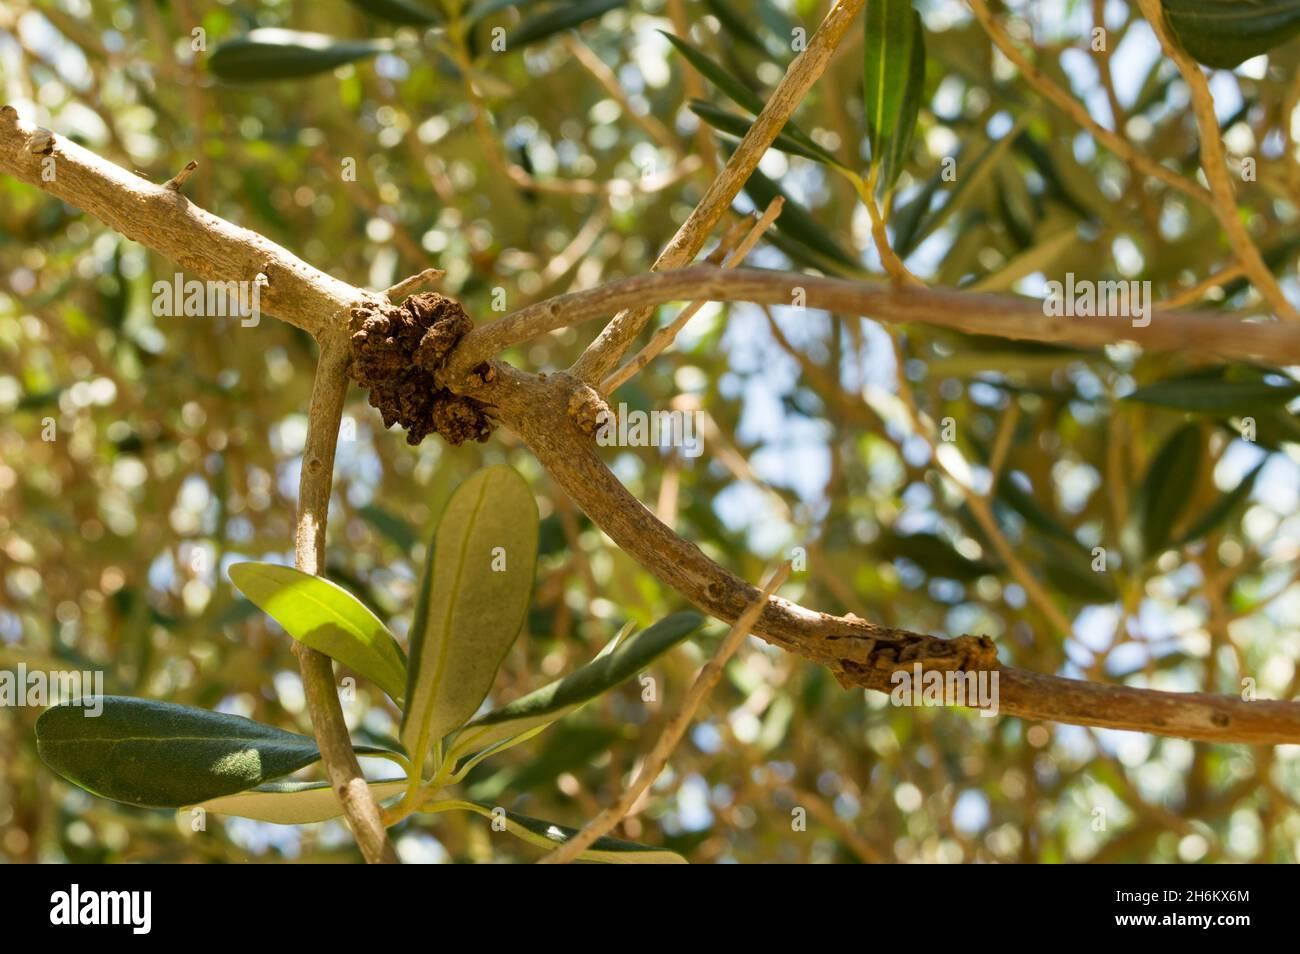Tuberculosis: (329, 285, 495, 448)
